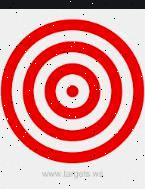target_red: (0, 17, 144, 163)
